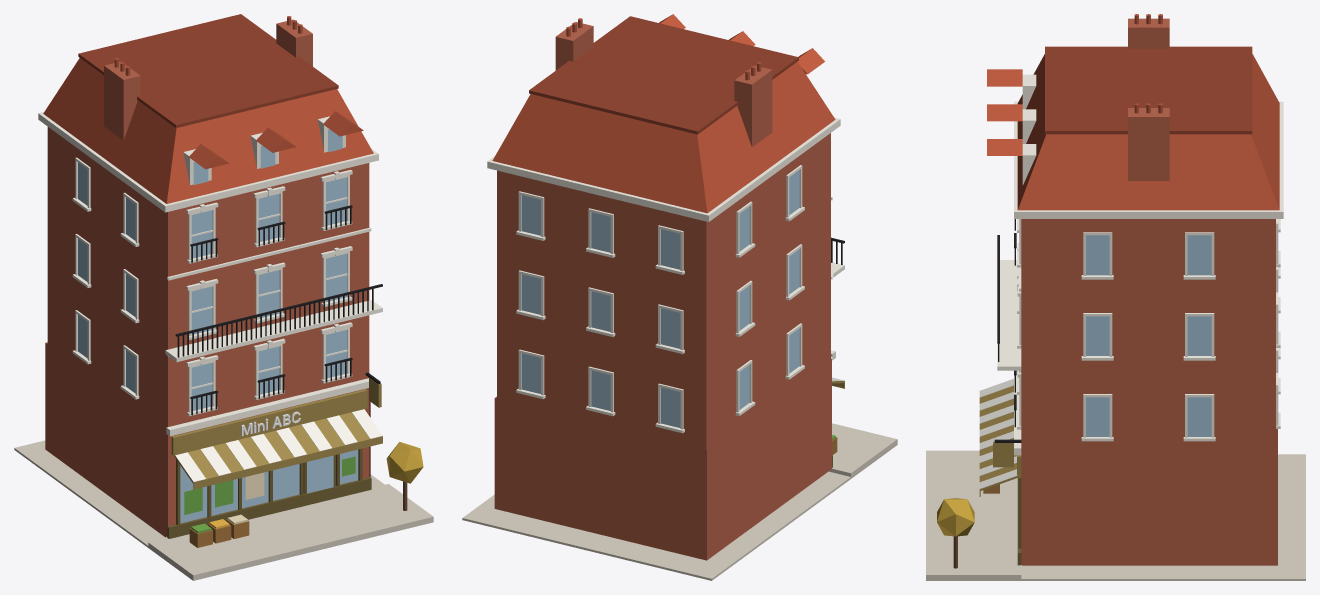
File: Dukkan_mini_abc_Hafif.fbx
3 renders of one model, left to right at view 1: azimuth 30°, elevation 25°; view 2: azimuth 150°, elevation 25°; view 3: azimuth 270°, elevation 25°, orthographic. The views are drawn at different scales.
Visible parts, largest first — view 1: Dukkan_mini_abc_Hafif; view 2: Dukkan_mini_abc_Hafif; view 3: Dukkan_mini_abc_Hafif.
Boxes of the visible parts, left/top/right/bottom form: Dukkan_mini_abc_Hafif: left=14, top=14, right=433, bottom=580; Dukkan_mini_abc_Hafif: left=462, top=14, right=897, bottom=580; Dukkan_mini_abc_Hafif: left=926, top=14, right=1305, bottom=580.
Bounding box in the file's own units: 9.93 × 17.02 × 12.76.
